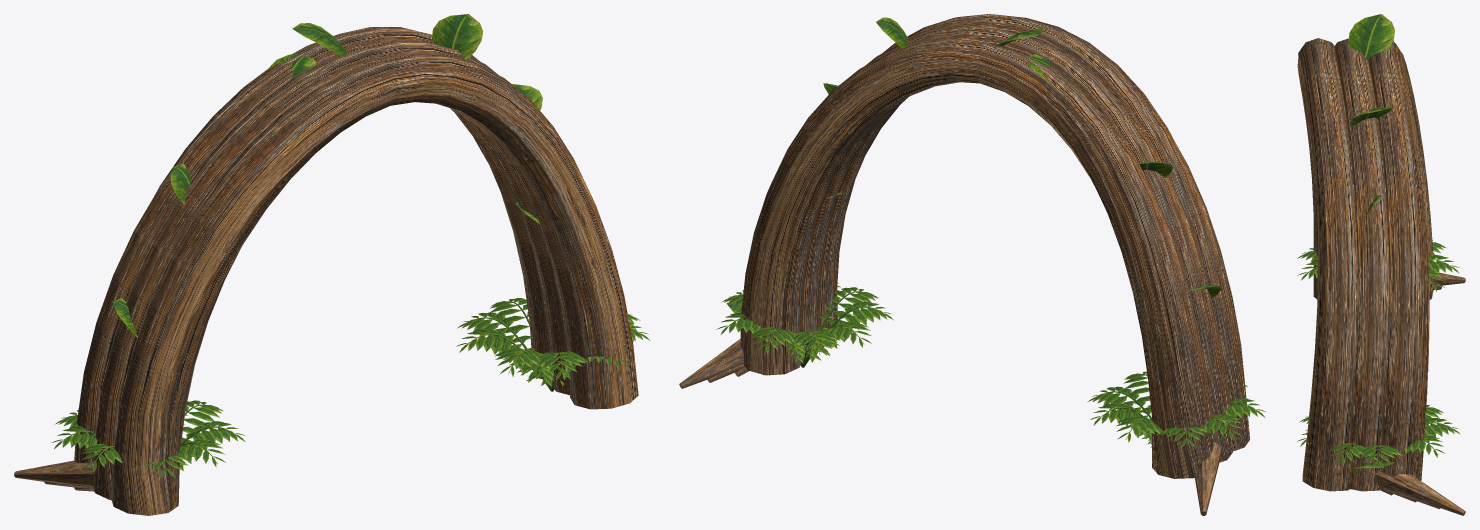
File: DriftRootArch.fbx
The picture shows the model from 3 angles, left to right: view 1: azimuth 30°, elevation 25°; view 2: azimuth 150°, elevation 25°; view 3: azimuth 270°, elevation 25°; orthographic projection. The views are drawn at different scales.
Visible parts, largest first — view 1: DriftRootArch_LOD0; view 2: DriftRootArch_LOD0; view 3: DriftRootArch_LOD0.
Boxes of the visible parts, left/top/right/bottom form: DriftRootArch_LOD0: left=14, top=14, right=650, bottom=515; DriftRootArch_LOD0: left=679, top=14, right=1265, bottom=515; DriftRootArch_LOD0: left=1297, top=14, right=1465, bottom=515.
Size of what is drawn, in the model's own units: 7.09 by 5.07 by 2.15.
